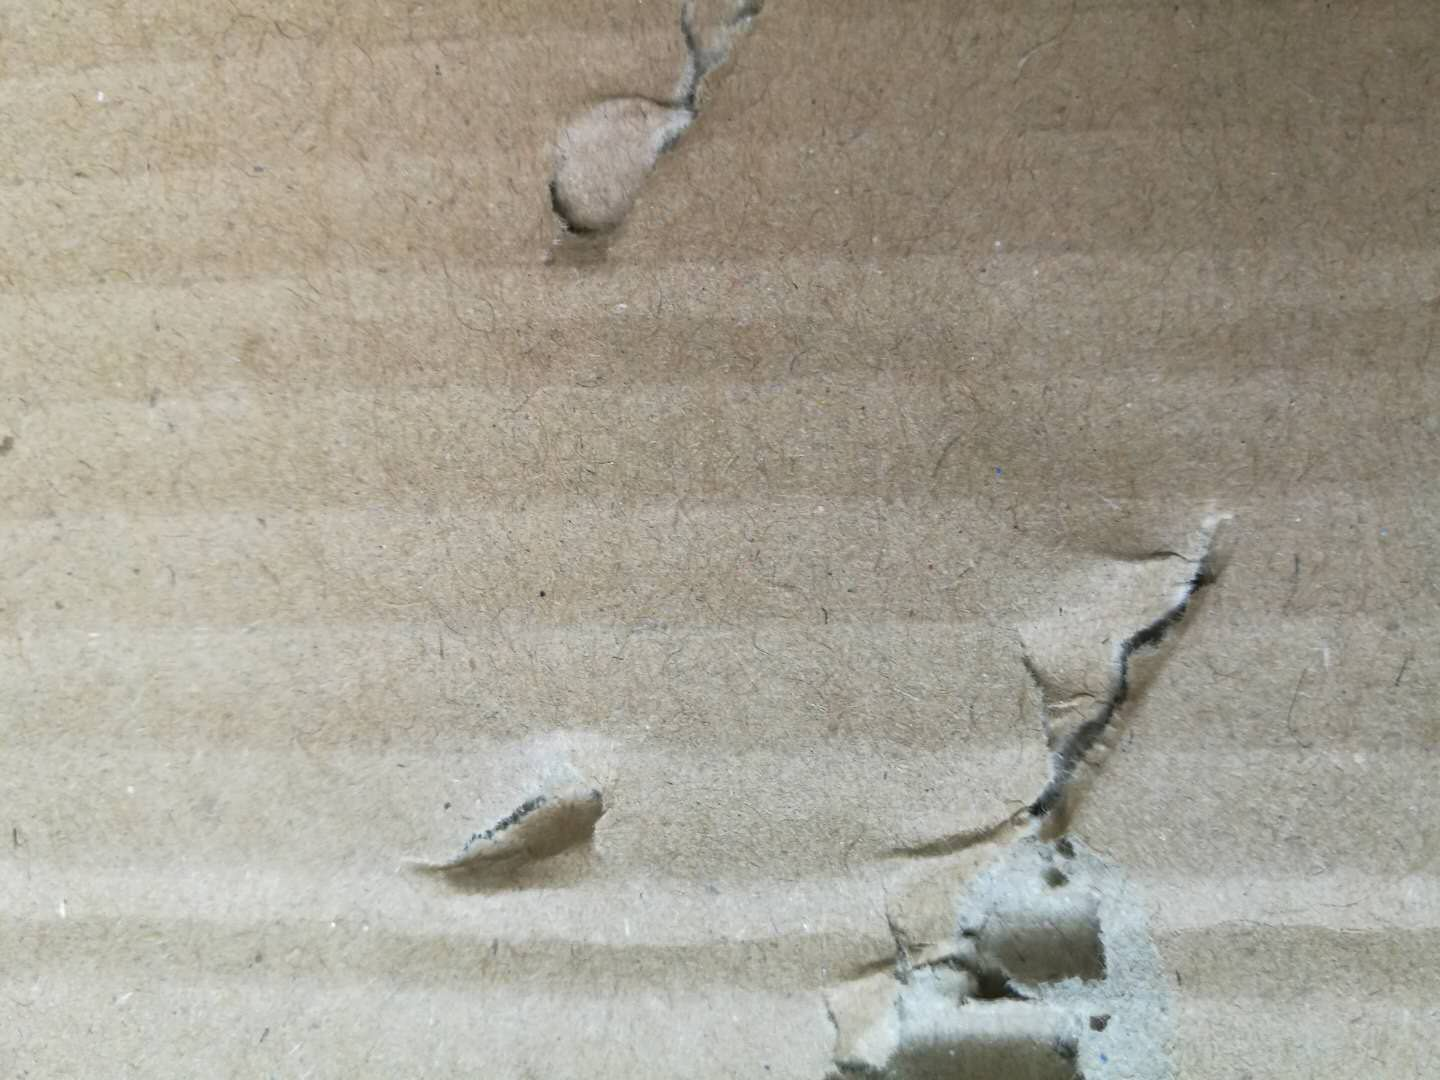defect: (768, 449, 1333, 1080), (498, 2, 804, 302), (380, 719, 645, 916)
